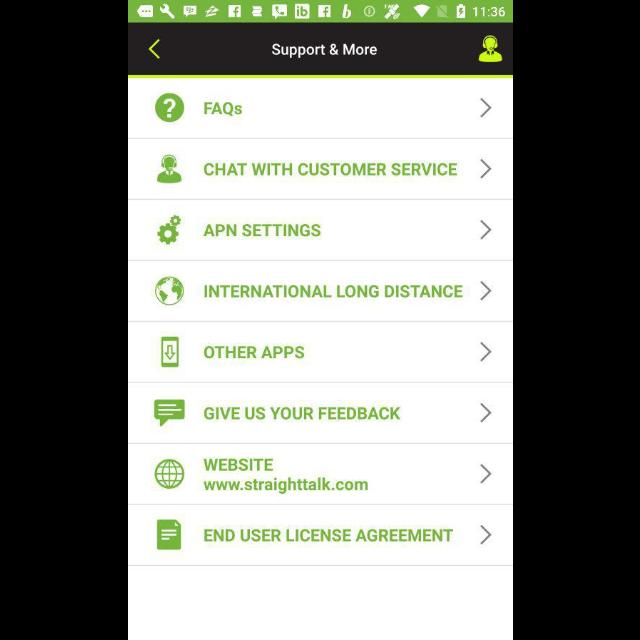icon: (153, 399, 185, 426), (154, 94, 183, 122), (156, 154, 182, 183), (157, 520, 181, 550), (156, 215, 180, 245), (478, 35, 502, 63), (161, 337, 179, 368), (479, 463, 491, 483), (479, 342, 491, 362), (480, 220, 492, 240), (479, 98, 491, 118), (148, 40, 160, 60), (479, 403, 491, 422), (480, 526, 492, 544), (479, 282, 491, 300), (480, 160, 492, 178)
image: (154, 459, 184, 489), (154, 276, 183, 306)
text: (204, 284, 462, 298), (203, 528, 452, 542), (204, 164, 456, 176), (202, 406, 400, 420), (203, 478, 367, 494), (202, 225, 320, 238), (272, 44, 376, 58), (204, 346, 304, 358), (204, 457, 272, 471), (204, 102, 242, 116)
toolbar: (128, 24, 512, 76)
uppertaskbar: (128, 1, 512, 23)
